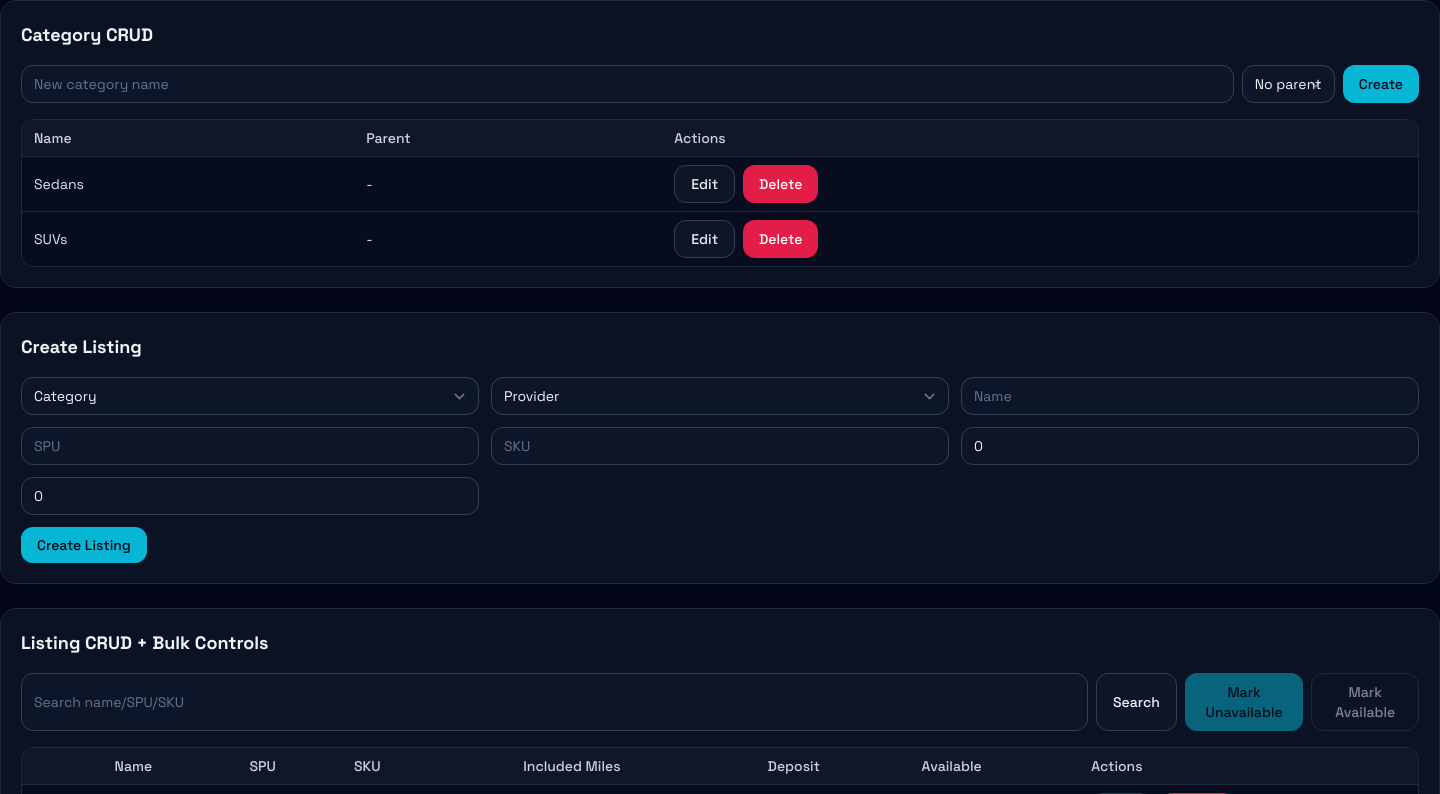
it: AdminCatalogPage › category edit form appears after clicking Edit
Click the button "Edit" in the row of "Sedans" at (705, 184), box left=674, top=165, right=735, bottom=203
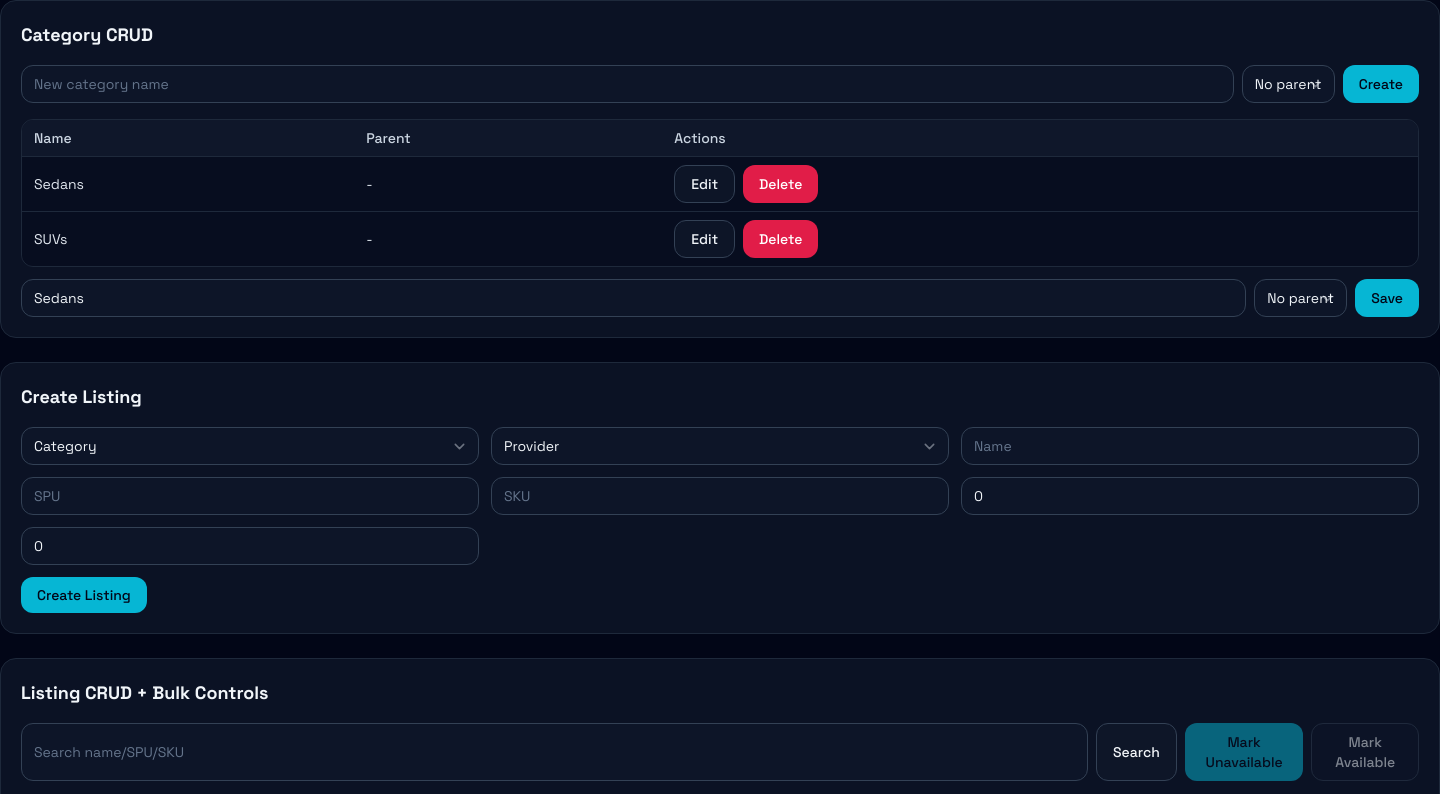
Check: the button "Save" is shown, box left=1355, top=279, right=1419, bottom=317
